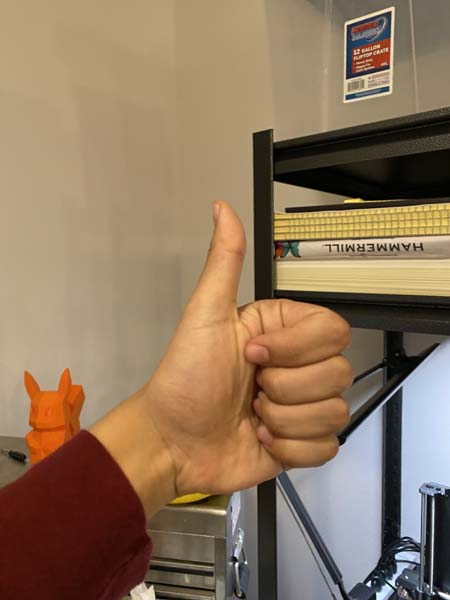Thumbs Up: (150, 193, 363, 507)
